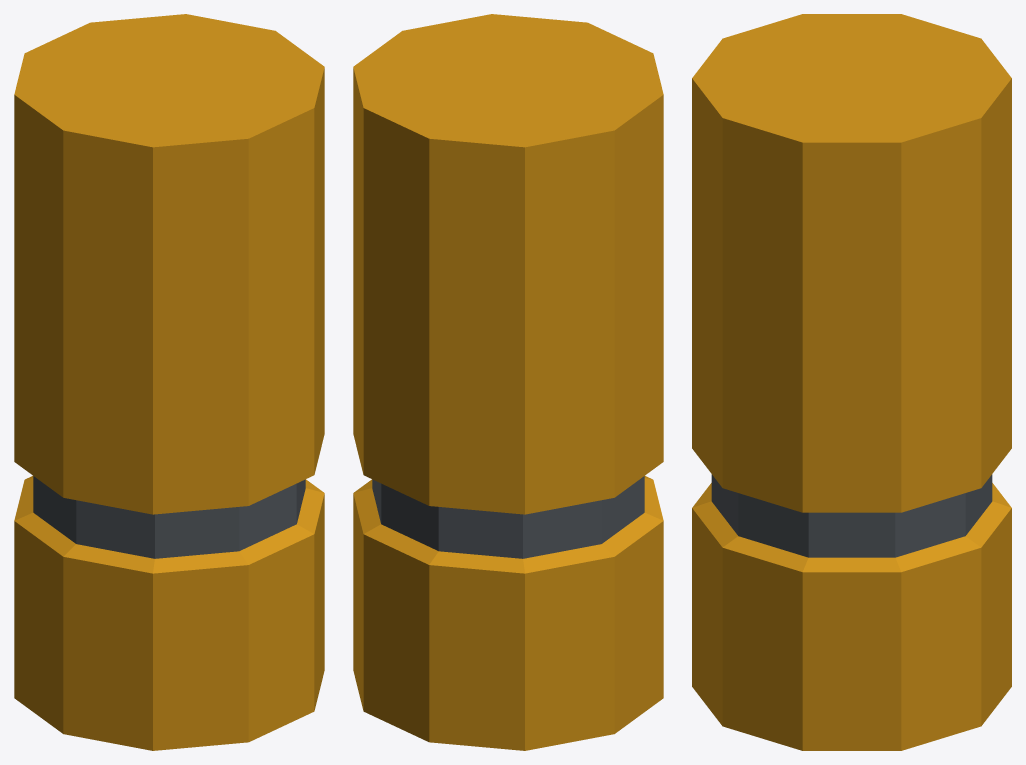
File: Dropship_01_Piping_02_Yellow.fbx
The picture shows the model from 3 angles, left to right: view 1: azimuth 30°, elevation 25°; view 2: azimuth 150°, elevation 25°; view 3: azimuth 270°, elevation 25°; orthographic projection.
Parts seen in each view (by area): view 1: Dropship_01_Piping_02_Yellow; view 2: Dropship_01_Piping_02_Yellow; view 3: Dropship_01_Piping_02_Yellow.
Part boxes in pixels (x1,y1,x2,y2): Dropship_01_Piping_02_Yellow: [14, 14, 324, 750]; Dropship_01_Piping_02_Yellow: [353, 14, 663, 750]; Dropship_01_Piping_02_Yellow: [692, 14, 1011, 750].
Bounding box in the file's own units: 52.29 × 115 × 54.98.
Materials: 1 (1 with a texture image).
